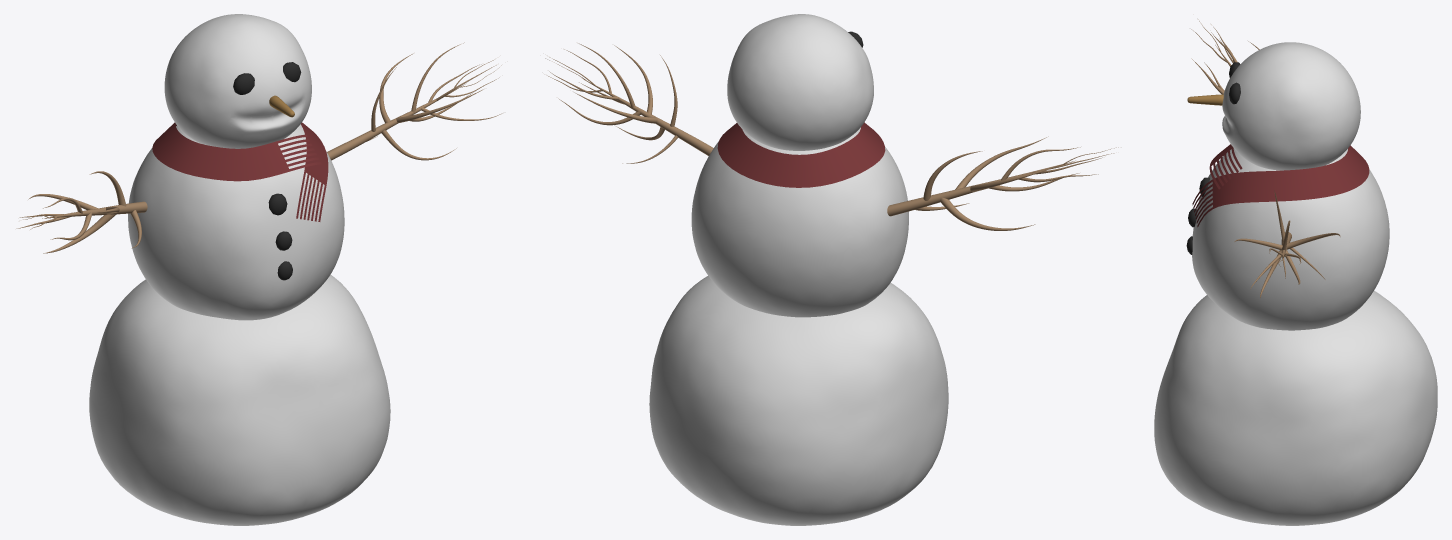
The model's file is snowman.fbx.
3 views of the same model, side by side, from view 1: azimuth 30°, elevation 25°; view 2: azimuth 150°, elevation 25°; view 3: azimuth 270°, elevation 25° (orthographic). The views are drawn at different scales.
Parts seen in each view (by area): view 1: Icosphere.002, Icosphere.001, Icosphere, Plane, tree.001, Icosphere.003; view 2: Icosphere.002, Icosphere.001, Icosphere, tree.001, Plane; view 3: Icosphere.002, Icosphere.001, Icosphere, Plane, tree.001, Cylinder.
Part boxes in pixels (x1=…): Icosphere.002: x1=89, y1=274, x2=390, y2=525; Icosphere.001: x1=128, y1=124, x2=344, y2=320; Icosphere: x1=164, y1=14, x2=311, y2=148; Plane: x1=152, y1=122, x2=328, y2=221; tree.001: x1=16, y1=42, x2=502, y2=253; Icosphere.003: x1=233, y1=62, x2=301, y2=94; Icosphere.002: x1=649, y1=276, x2=948, y2=525; Icosphere.001: x1=691, y1=127, x2=908, y2=317; Icosphere: x1=727, y1=14, x2=873, y2=150; tree.001: x1=545, y1=43, x2=1118, y2=230; Plane: x1=717, y1=122, x2=885, y2=187; Icosphere.002: x1=1154, y1=290, x2=1437, y2=525; Icosphere.001: x1=1192, y1=148, x2=1389, y2=330; Icosphere: x1=1222, y1=42, x2=1360, y2=170; Plane: x1=1192, y1=144, x2=1369, y2=227; tree.001: x1=1191, y1=19, x2=1340, y2=297; Cylinder: x1=1187, y1=94, x2=1223, y2=105.
Bounding box in the file's own units: 1242 × 1040 × 597.
